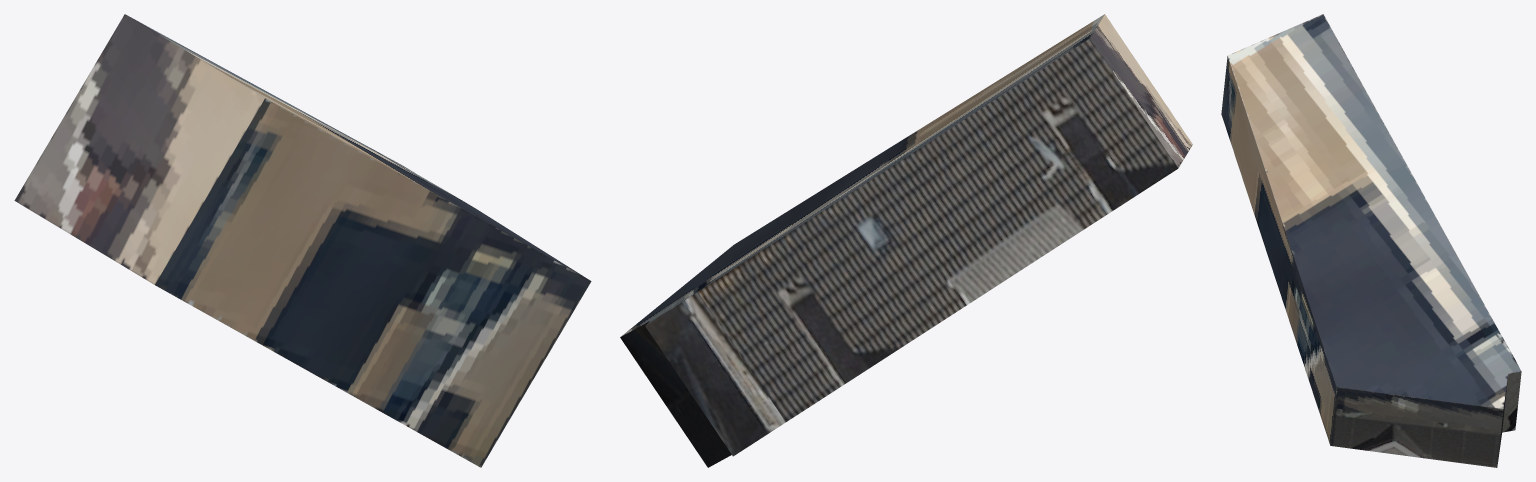
3 views of the same model, side by side, from view 1: azimuth 30°, elevation 25°; view 2: azimuth 150°, elevation 25°; view 3: azimuth 270°, elevation 25° (orthographic). The views are drawn at different scales.
Visible parts, largest first — view 1: BAG_0599100000760370 (×2); view 2: BAG_0599100000760370 (×3); view 3: BAG_0599100000760370 (×2).
Boxes of the visible parts, x1,y1,x2,y2 form: BAG_0599100000760370 (×2): (14, 14, 591, 467); BAG_0599100000760370 (×3): (620, 14, 1192, 467); BAG_0599100000760370 (×2): (1221, 14, 1521, 467).
Bounding box in the file's own units: 12.28 × 11.08 × 8.77.
Materials: 3 (3 with a texture image).
